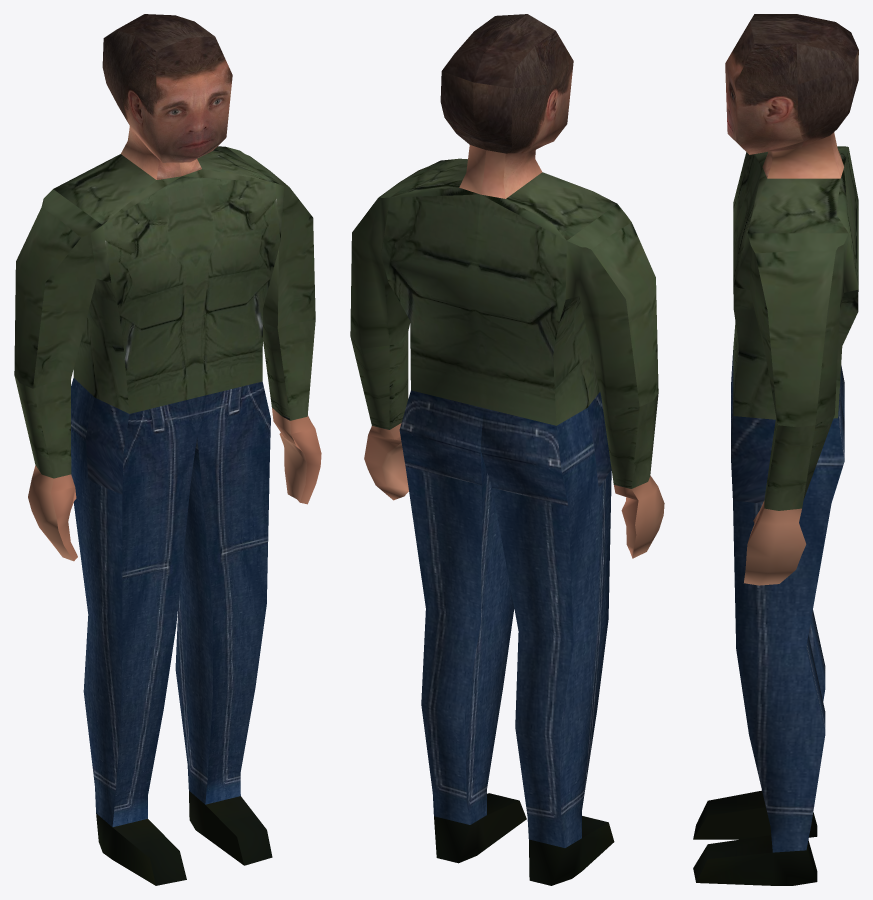
File: NPC2.fbx
3 renders of one model, left to right at view 1: azimuth 30°, elevation 25°; view 2: azimuth 150°, elevation 25°; view 3: azimuth 270°, elevation 25°, orthographic. The views are drawn at different scales.
Visible parts, largest first — view 1: HumanRight; view 2: HumanRight; view 3: HumanRight.
Boxes of the visible parts, x1,y1,x2,y2 form: HumanRight: (14,14,321,885); HumanRight: (350,14,664,885); HumanRight: (693,14,858,885).
Size of the model in its own units: 244 by 655 by 118.
1 material, 1 textured.
